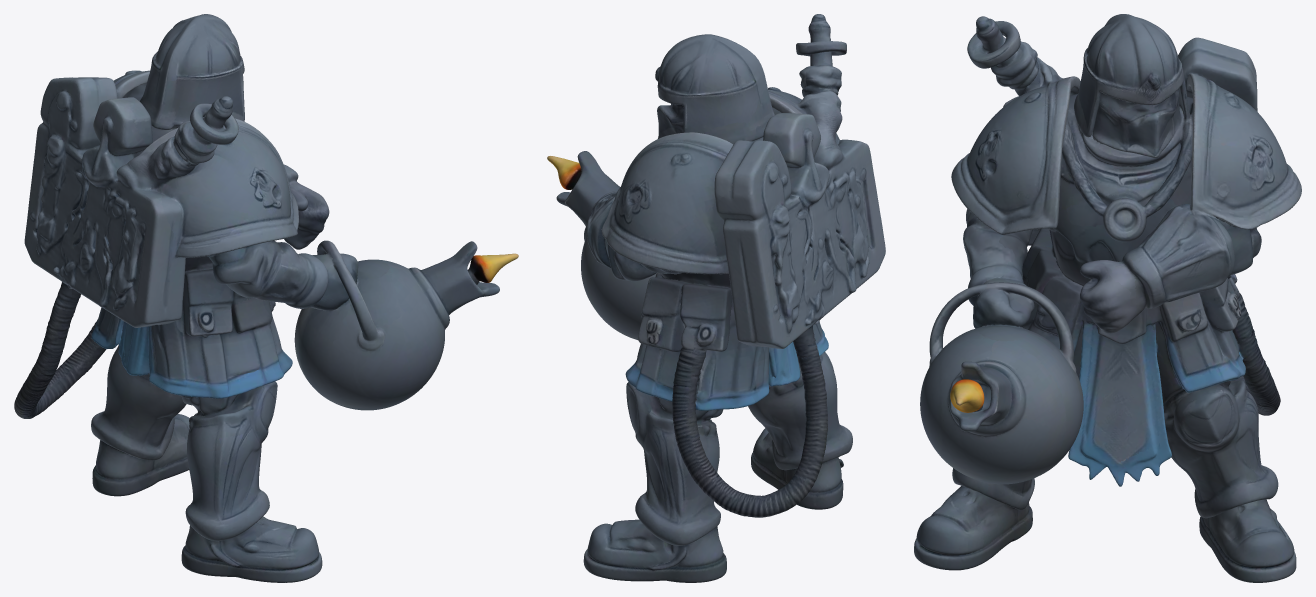
File: mesh.glb.tmp-opt.glb
3 views of the same model, side by side, from view 1: azimuth 30°, elevation 25°; view 2: azimuth 150°, elevation 25°; view 3: azimuth 270°, elevation 25° (orthographic). The views are drawn at different scales.
Visible parts, largest first — view 1: tripo_node_8d6144de-5321-4f97-9462-9678aca22a1d; view 2: tripo_node_8d6144de-5321-4f97-9462-9678aca22a1d; view 3: tripo_node_8d6144de-5321-4f97-9462-9678aca22a1d.
Boxes of the visible parts, x1,y1,x2,y2 form: tripo_node_8d6144de-5321-4f97-9462-9678aca22a1d: [14, 14, 518, 582]; tripo_node_8d6144de-5321-4f97-9462-9678aca22a1d: [547, 14, 885, 582]; tripo_node_8d6144de-5321-4f97-9462-9678aca22a1d: [914, 14, 1301, 582].
Size of the model in its own units: 0.8154 by 1 by 0.6562.
Materials: 1 (1 with a texture image).
